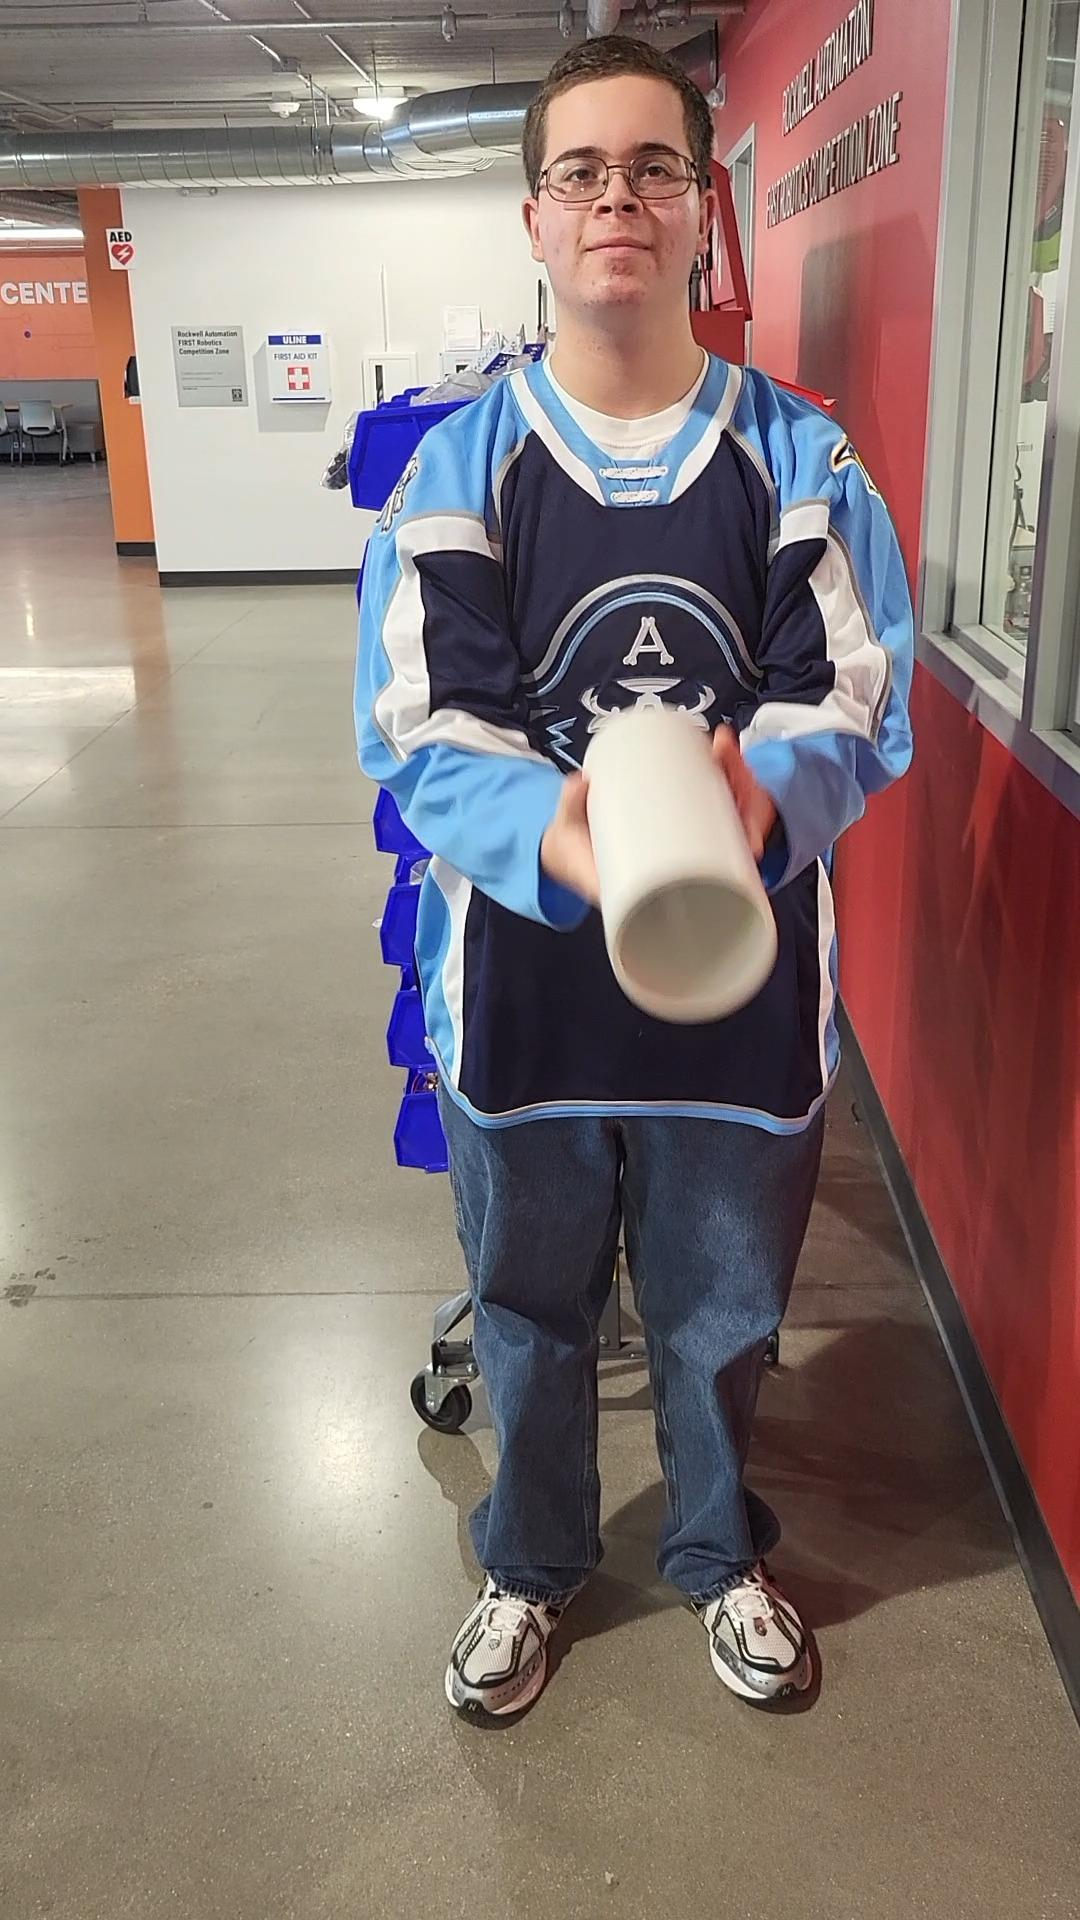coral: (576, 694, 783, 1027)
